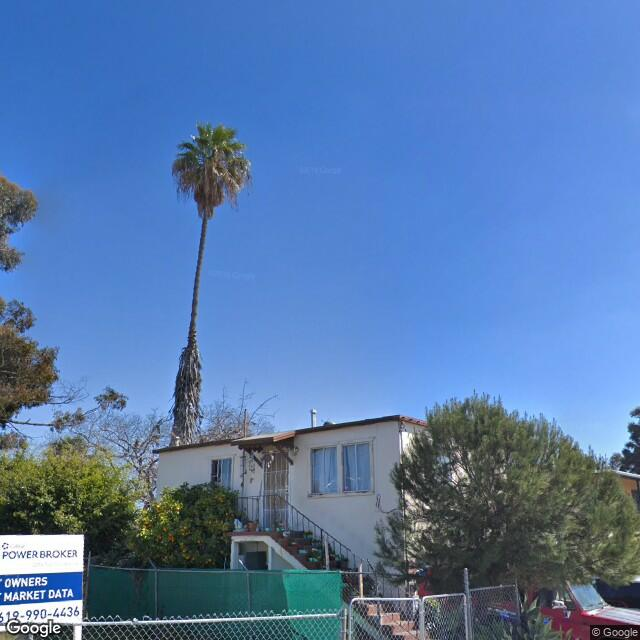window: (309, 443, 371, 501), (211, 452, 236, 494)
